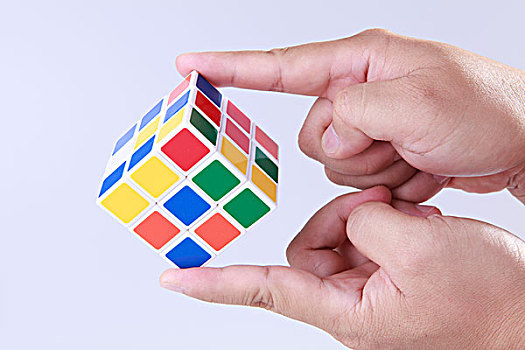cube: (94, 69, 282, 275)
